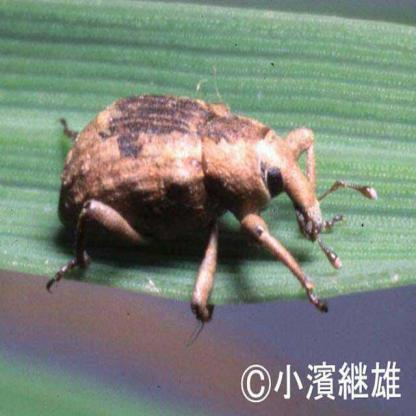rice-bug: (56, 90, 332, 299)
